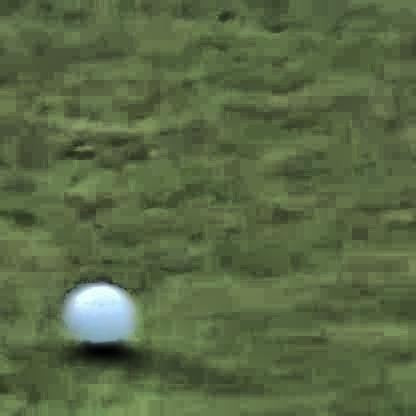golfball: (63, 280, 134, 350)
